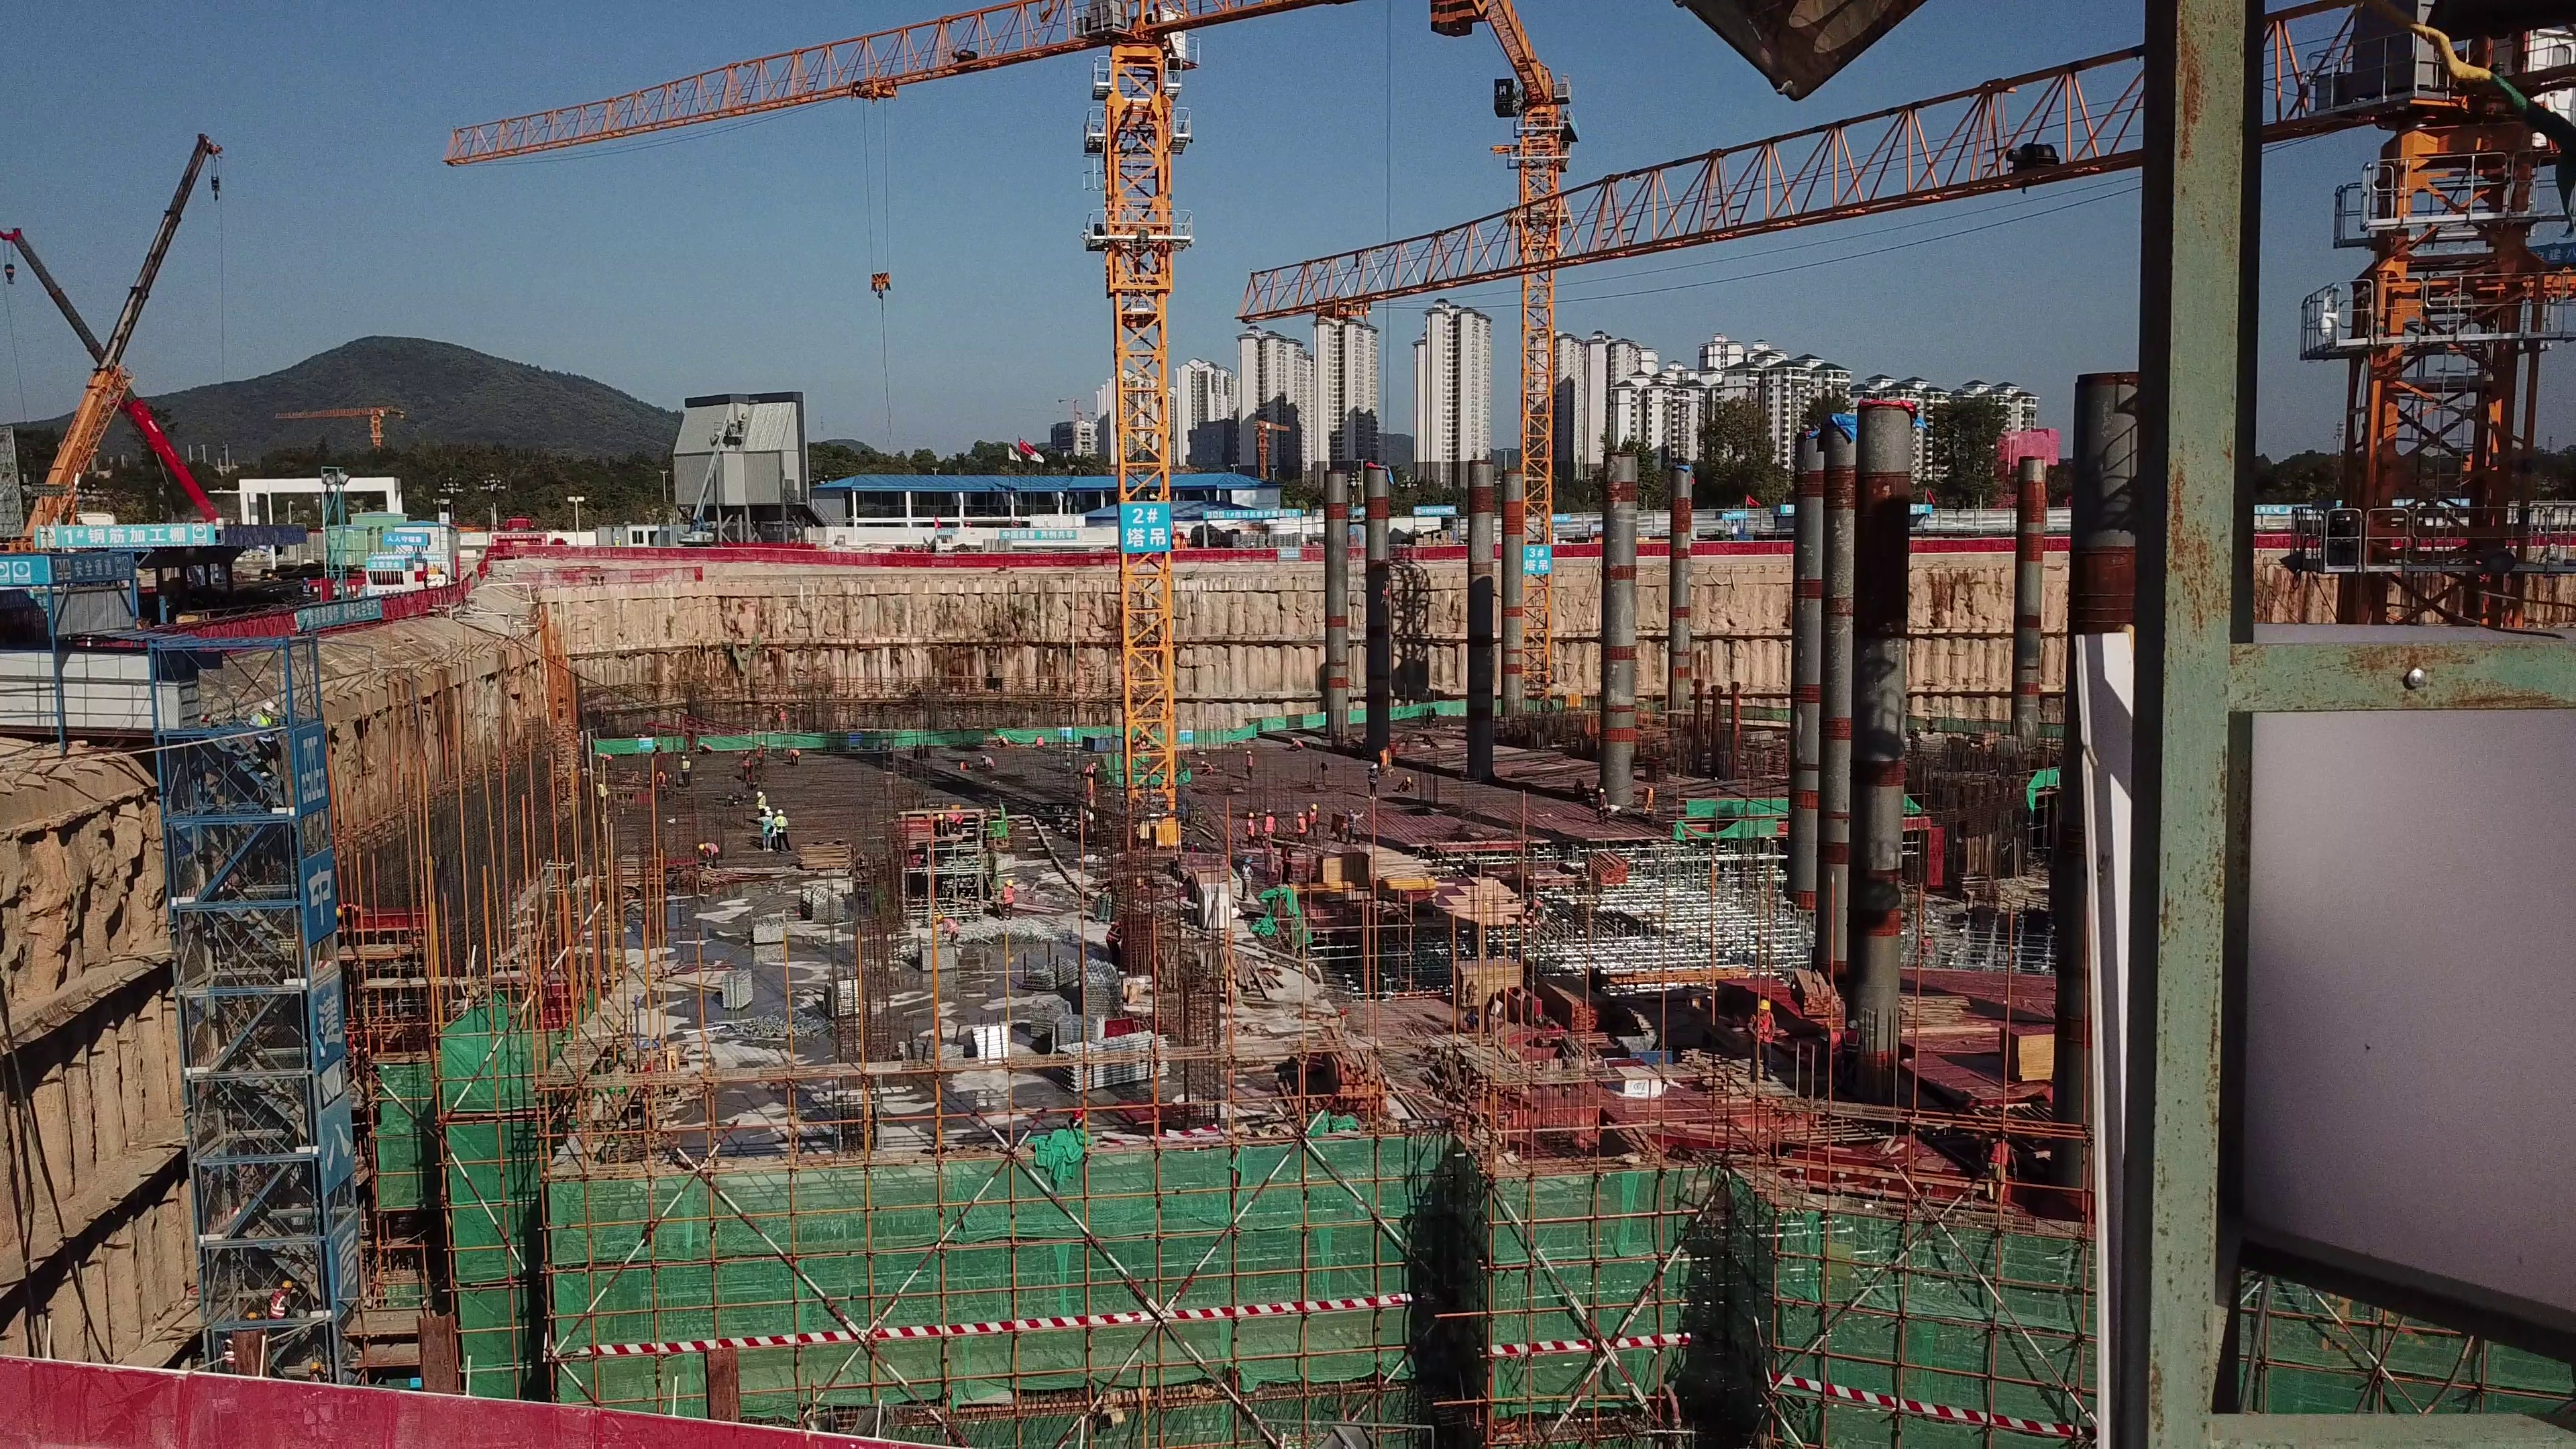helmet: (762, 806, 788, 816), (1759, 999, 1774, 1014), (1004, 877, 1014, 888), (933, 912, 941, 920), (1308, 803, 1318, 809), (758, 790, 764, 796), (698, 843, 706, 849), (1248, 810, 1254, 816), (1297, 810, 1303, 815)
person: (1752, 995, 1776, 1085), (1990, 1128, 2011, 1213), (770, 808, 792, 857), (932, 911, 960, 943), (998, 877, 1017, 923), (697, 841, 725, 867), (1263, 806, 1277, 851), (1595, 788, 1613, 822), (743, 745, 755, 794), (760, 809, 773, 853), (680, 752, 692, 788), (1309, 803, 1321, 838), (1245, 810, 1258, 844), (1296, 811, 1309, 842), (784, 747, 806, 763), (1246, 749, 1256, 781), (757, 789, 767, 810), (1397, 776, 1413, 788), (1291, 737, 1302, 754)
